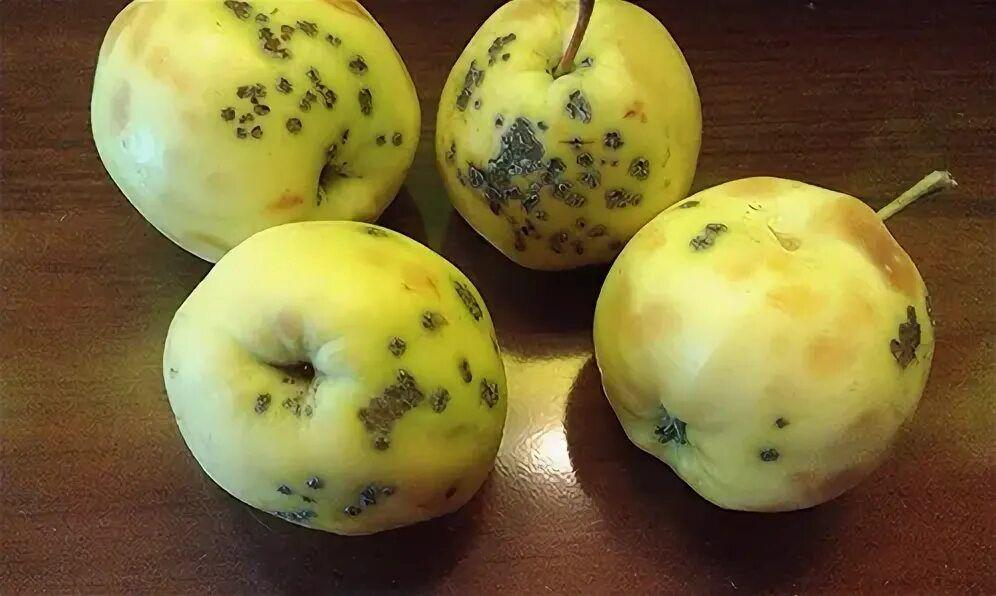Apple: (596, 168, 931, 513), (162, 221, 505, 541), (91, 0, 422, 266), (438, 0, 702, 268)
